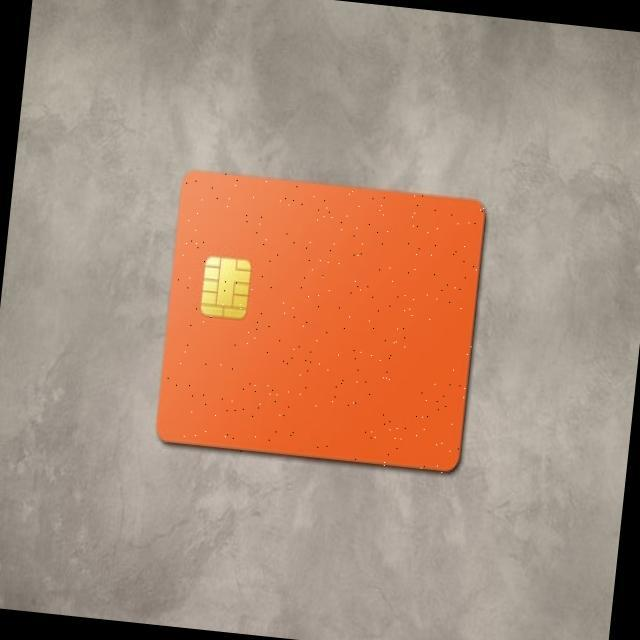payment_card: (155, 168, 487, 474)
